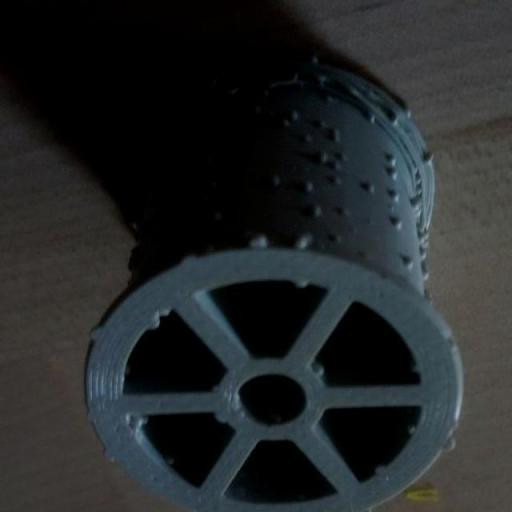blobs: (244, 233, 272, 256), (206, 208, 228, 228), (262, 175, 282, 195), (84, 324, 106, 342), (289, 234, 312, 251), (286, 106, 307, 124), (296, 177, 318, 194), (141, 317, 164, 333), (311, 360, 329, 380), (306, 204, 324, 224), (442, 436, 460, 456), (302, 52, 324, 68), (386, 111, 404, 128), (362, 182, 378, 200), (404, 421, 422, 437), (250, 102, 267, 118), (402, 256, 417, 274), (418, 267, 436, 282), (294, 275, 308, 293), (384, 170, 402, 184), (318, 148, 332, 166), (206, 174, 220, 192), (409, 193, 423, 210), (404, 107, 418, 124), (374, 463, 392, 476), (335, 206, 354, 218), (364, 112, 380, 126), (390, 218, 404, 233), (424, 153, 438, 168), (331, 128, 346, 142), (383, 153, 399, 166), (165, 453, 181, 466), (330, 175, 344, 189), (278, 116, 292, 130), (416, 250, 430, 264), (386, 191, 402, 203), (301, 132, 316, 144)
